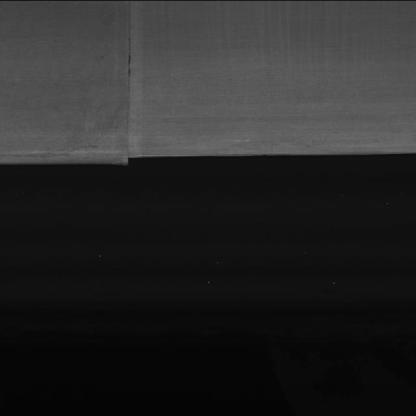welding_line: (111, 2, 148, 170)
